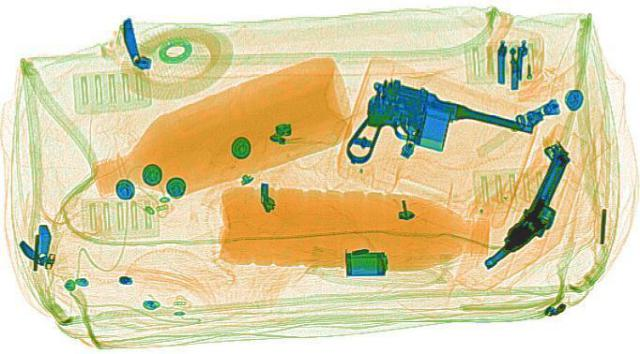Gun: (298, 76, 540, 193), (484, 139, 582, 271)
